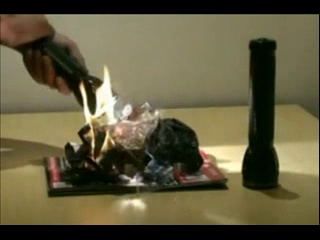fire: (79, 62, 116, 158)
